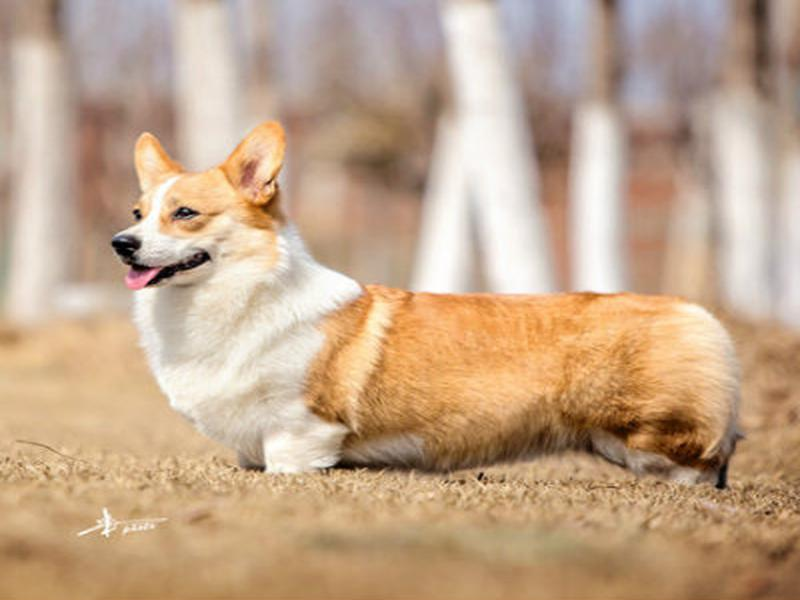corgi: (110, 119, 294, 295)
